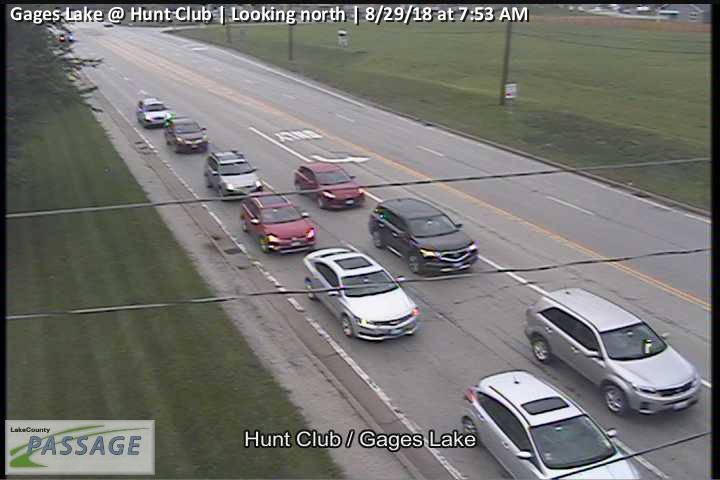SUV: (525, 287, 700, 418), (462, 369, 641, 480), (302, 247, 421, 342), (368, 198, 478, 275), (241, 191, 316, 255), (294, 161, 366, 211), (205, 150, 263, 201), (165, 117, 208, 153), (136, 97, 171, 128)
